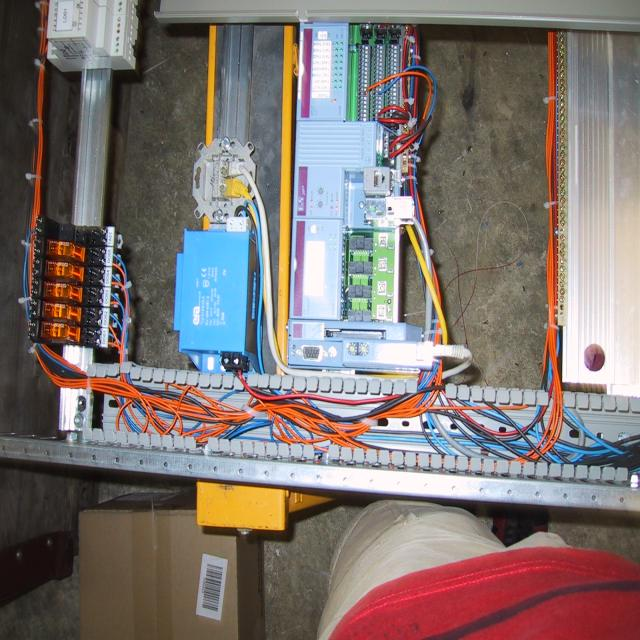Dimmer: (47, 0, 140, 76)
Klemmenleiste: (360, 44, 412, 124)
SPS-System -Steuerungskomponente-: (294, 120, 380, 220), (294, 23, 349, 124), (291, 218, 341, 321)
Schaltkasten: (1, 0, 640, 515)
